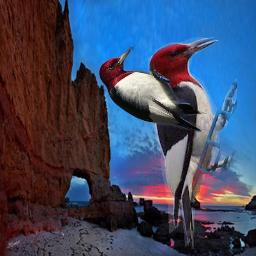Woodpecker: (148, 37, 237, 249), (93, 45, 209, 133)
